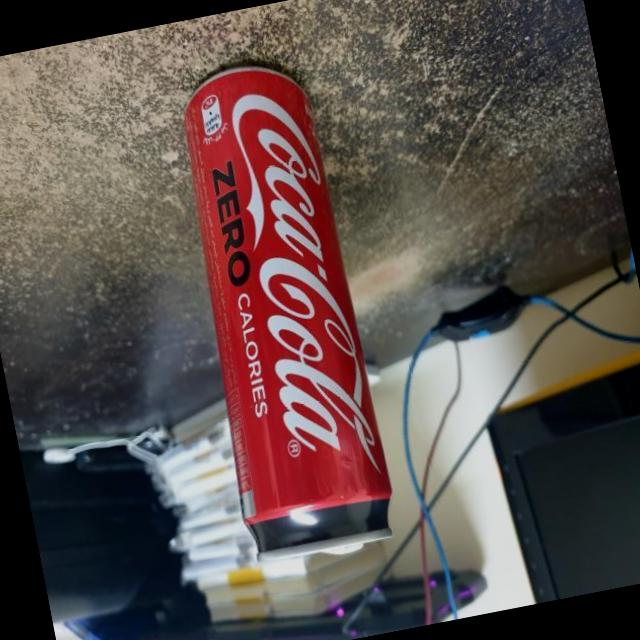can: (154, 48, 406, 569)
